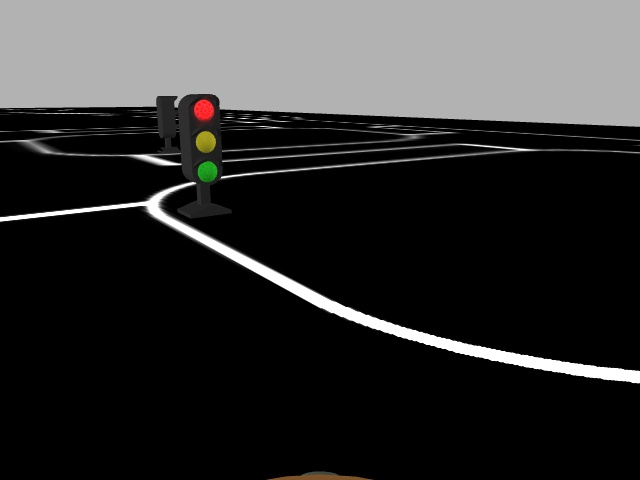red_light: (184, 94, 224, 186)
